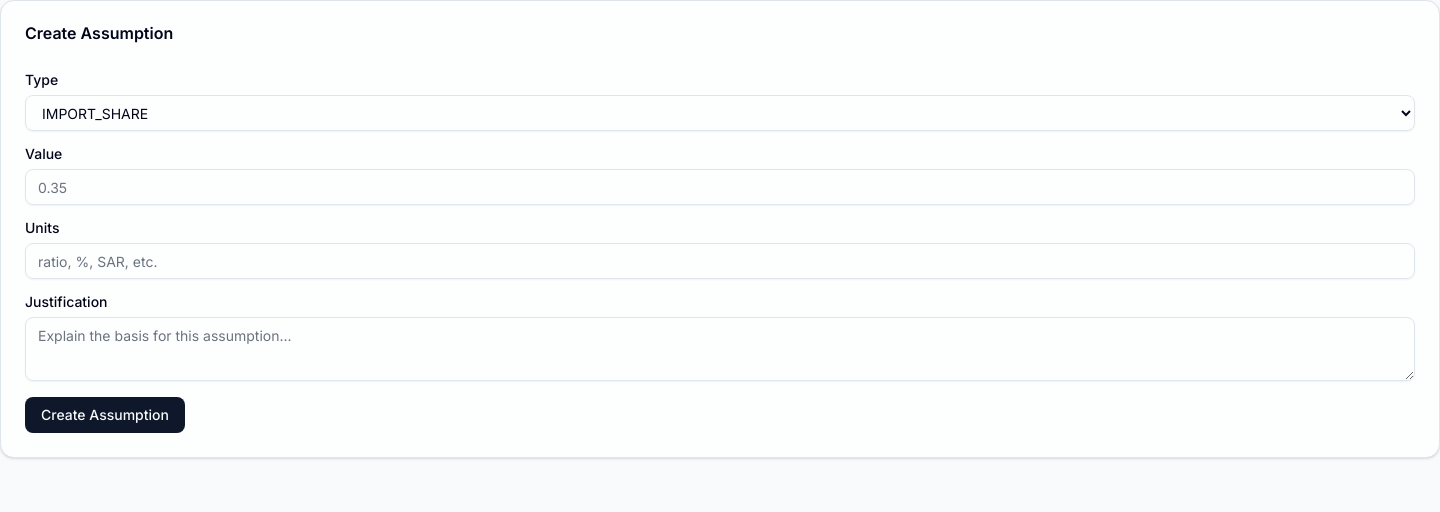
Scenario: AssumptionCreate › shows error message on failure
The width and height of the screenshot is (1440, 512).
Select "PHASING" in the dropdown labelled "Type" at (720,113), box x1=25 y1=95 x2=1415 y2=131
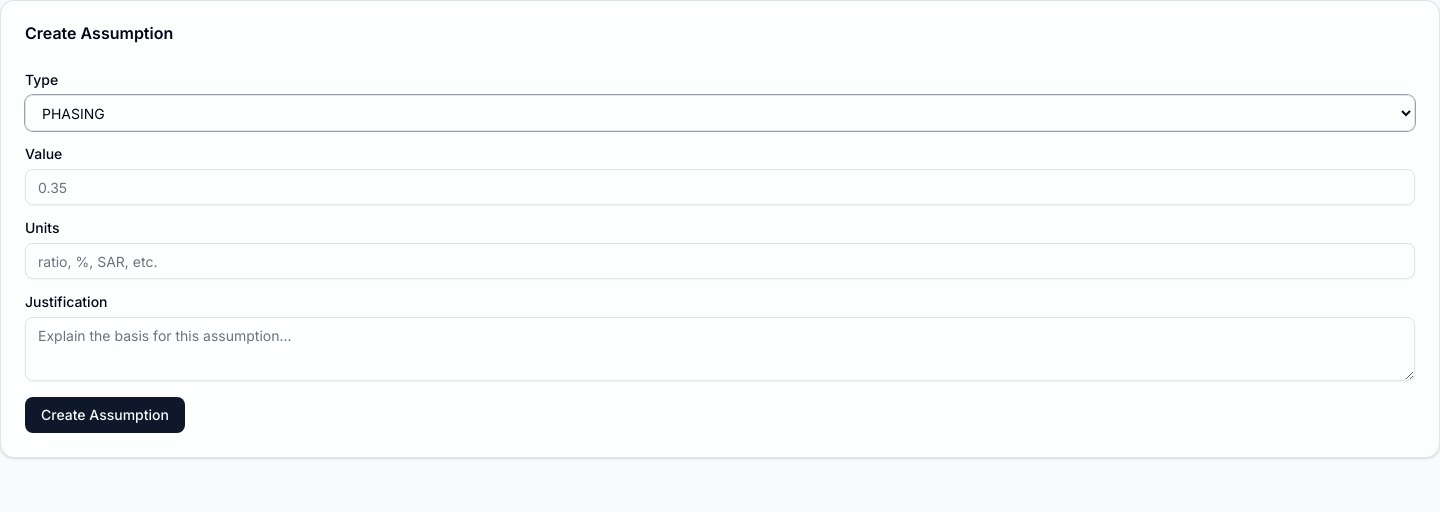
Type "0.5" into the number field labelled "Value" at (720,187), box x1=25 y1=169 x2=1415 y2=205
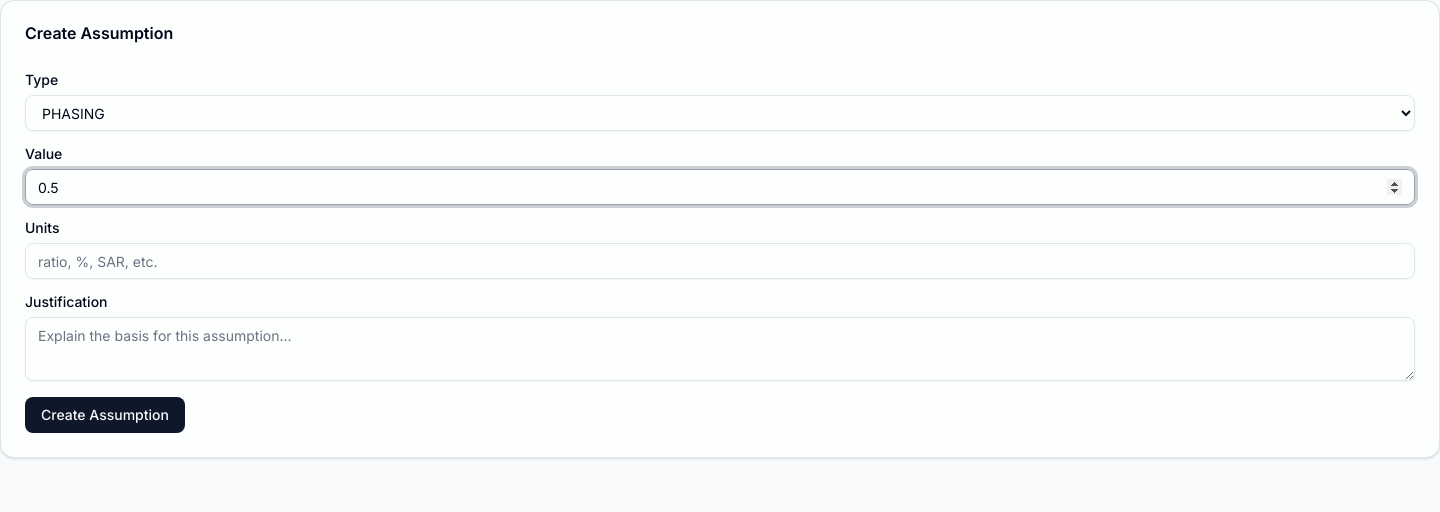
Type "%" into the field labelled "Units" at (720,261), box x1=25 y1=243 x2=1415 y2=279
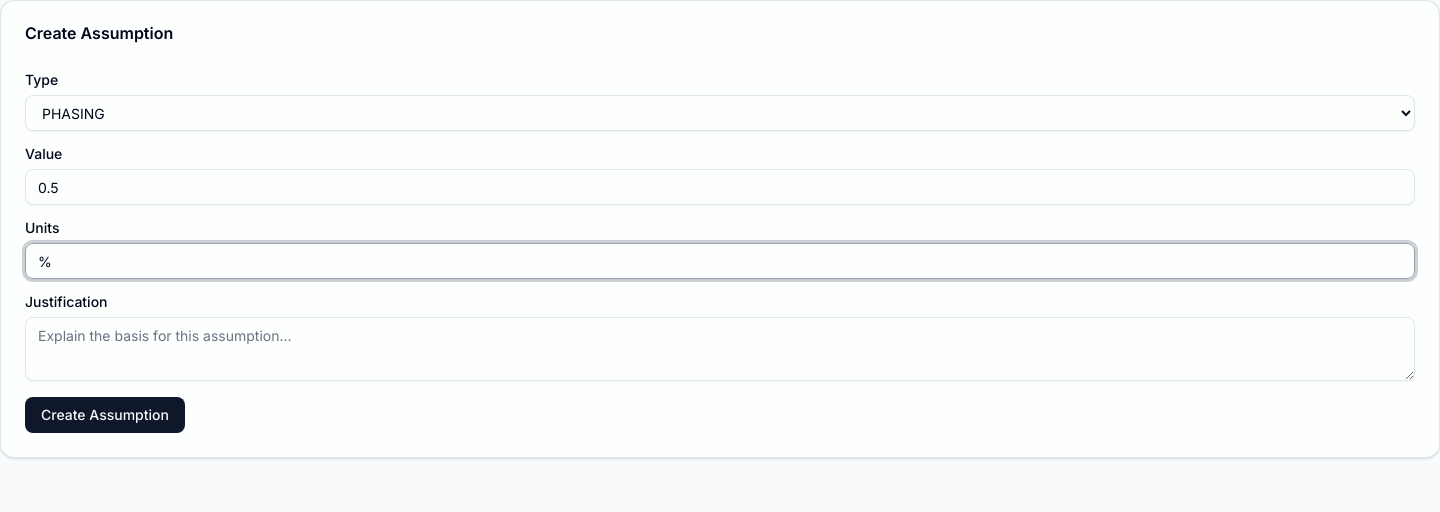
Type "test" into the text box labelled "Justification" at (720,349), box x1=25 y1=317 x2=1415 y2=381
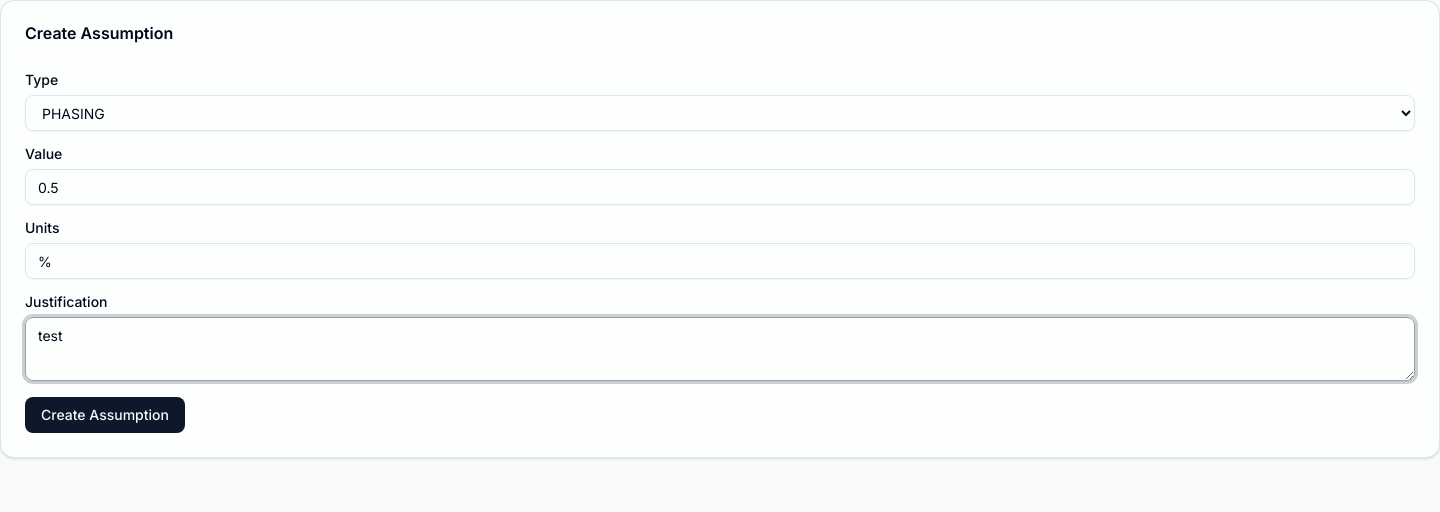
Click the button "Create Assumption" at (105,415), box x1=25 y1=397 x2=185 y2=433
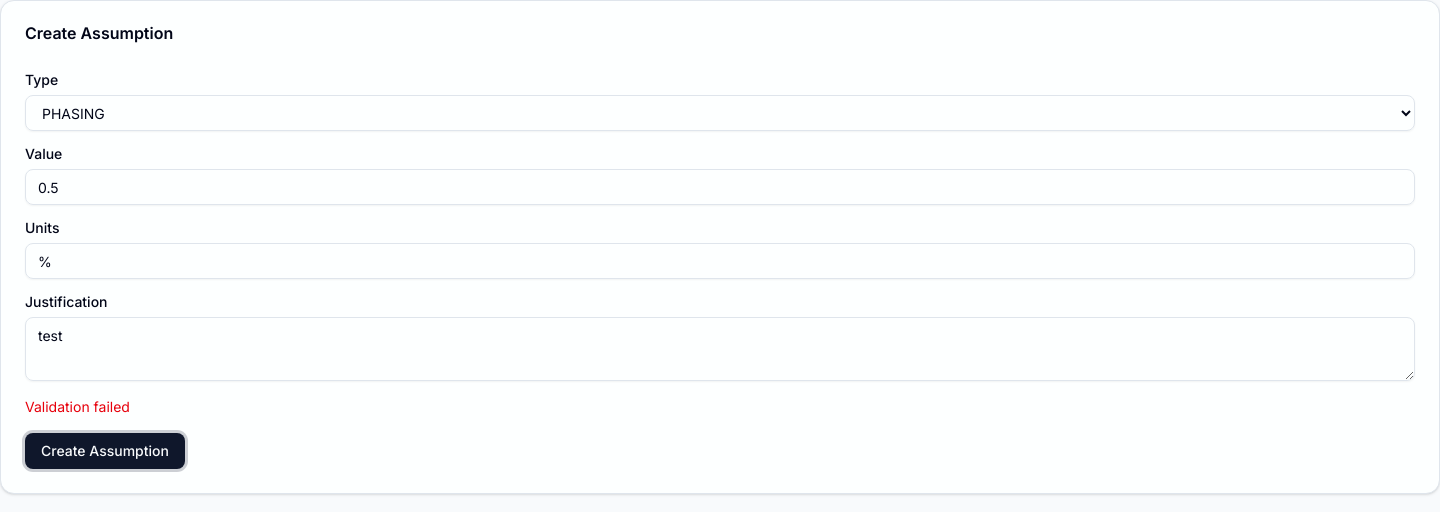
Expected: the text "Validation failed" is shown, x1=25 y1=398 x2=130 y2=415
